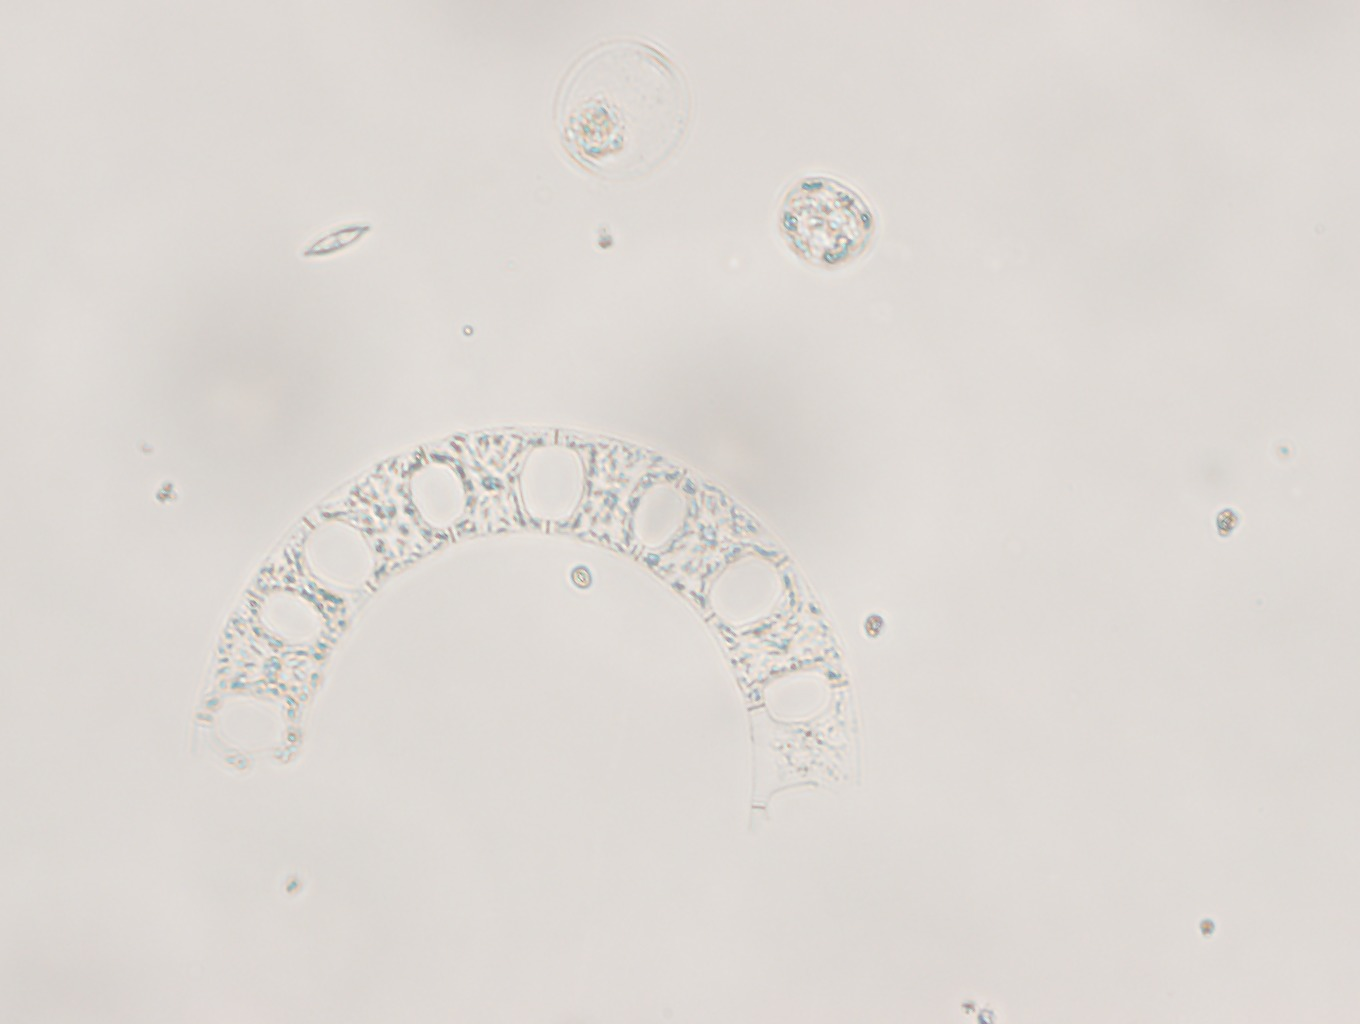eucampia: (197, 430, 858, 813)
